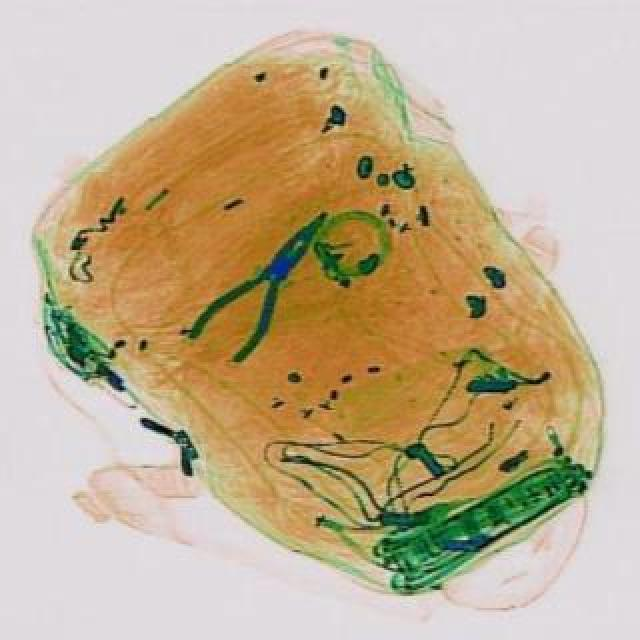wrench: (178, 190, 350, 370)
